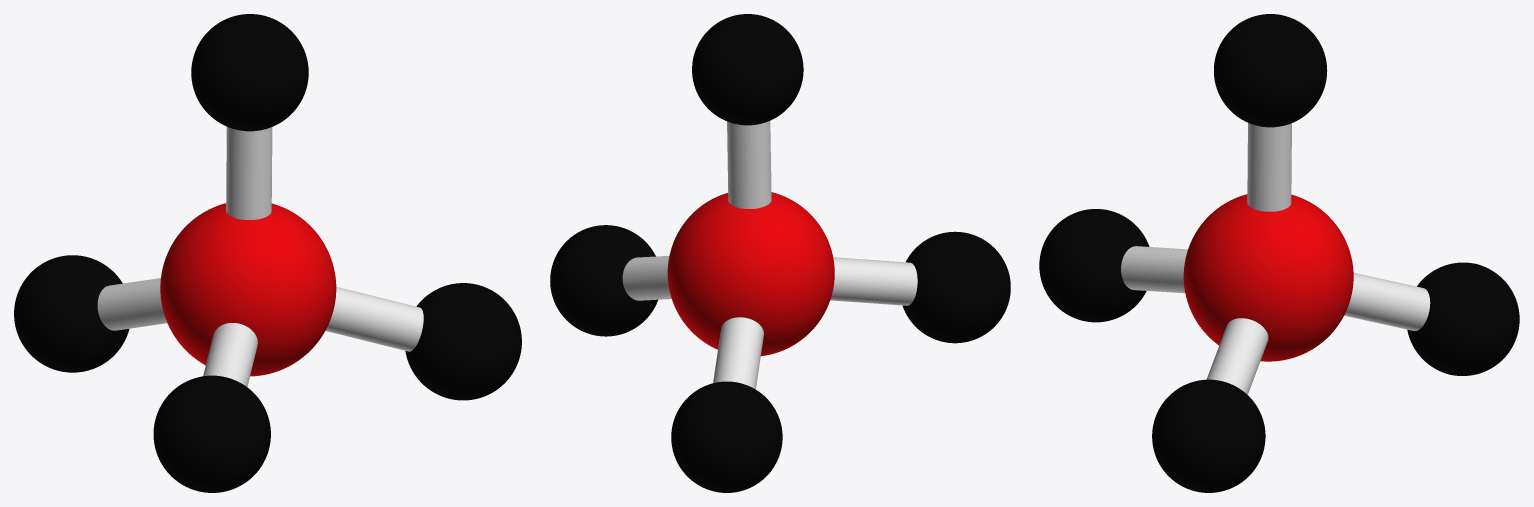
File: trigonalpyramid.glb
The picture shows the model from 3 angles, left to right: view 1: azimuth 30°, elevation 25°; view 2: azimuth 150°, elevation 25°; view 3: azimuth 270°, elevation 25°; orthographic projection. The views are drawn at different scales.
Visible parts, largest first — view 1: Sphere, Sphere.002, Sphere.001, Sphere.003, Sphere.004; view 2: Sphere, Sphere.002, Sphere.003, Sphere.004, Sphere.001; view 3: Sphere, Sphere.002, Sphere.001, Sphere.004, Sphere.003.
Part boxes in pixels (x1,y1,x2,y2): Sphere: [160, 203, 336, 376]; Sphere.002: [191, 14, 308, 219]; Sphere.001: [325, 283, 521, 400]; Sphere.003: [153, 323, 270, 492]; Sphere.004: [14, 255, 167, 372]; Sphere: [667, 192, 834, 356]; Sphere.002: [692, 14, 803, 208]; Sphere.003: [830, 231, 1010, 343]; Sphere.004: [671, 317, 782, 492]; Sphere.001: [550, 225, 671, 336]; Sphere: [1183, 194, 1353, 361]; Sphere.002: [1214, 14, 1327, 211]; Sphere.001: [1152, 318, 1268, 492]; Sphere.004: [1344, 262, 1519, 375]; Sphere.003: [1039, 209, 1187, 322].
Size of the model in its own units: 8.03 by 7.49 by 8.41.
